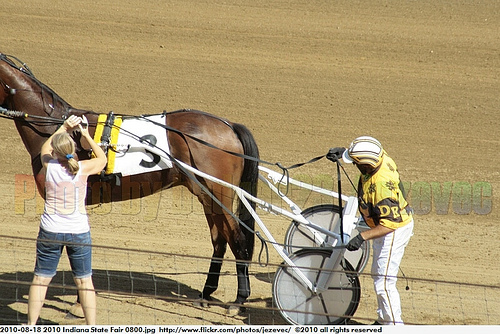horse: (0, 45, 260, 316)
